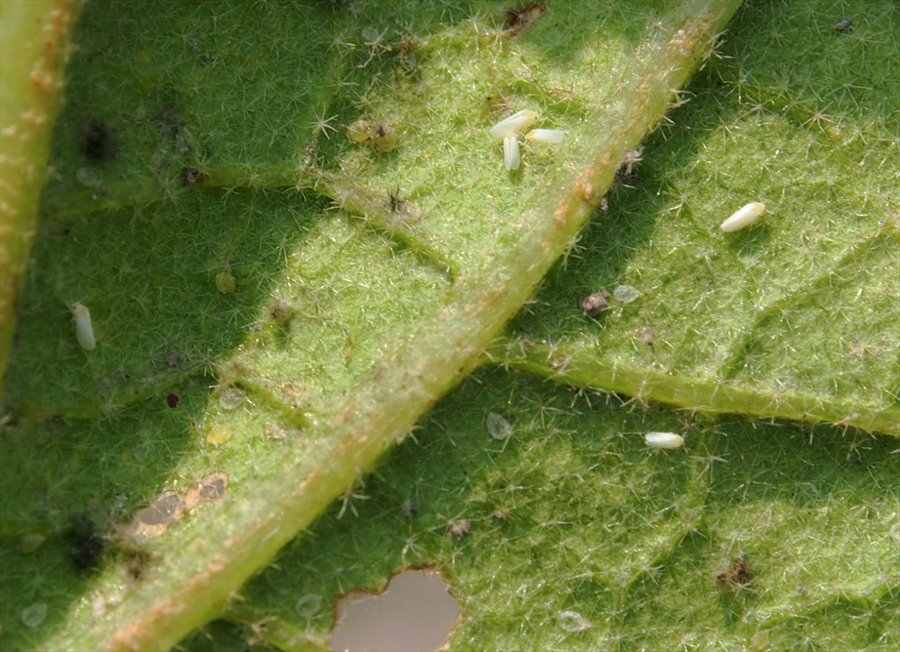Tobacco Whitefly: (702, 188, 788, 247), (71, 293, 107, 365), (504, 132, 532, 173)
